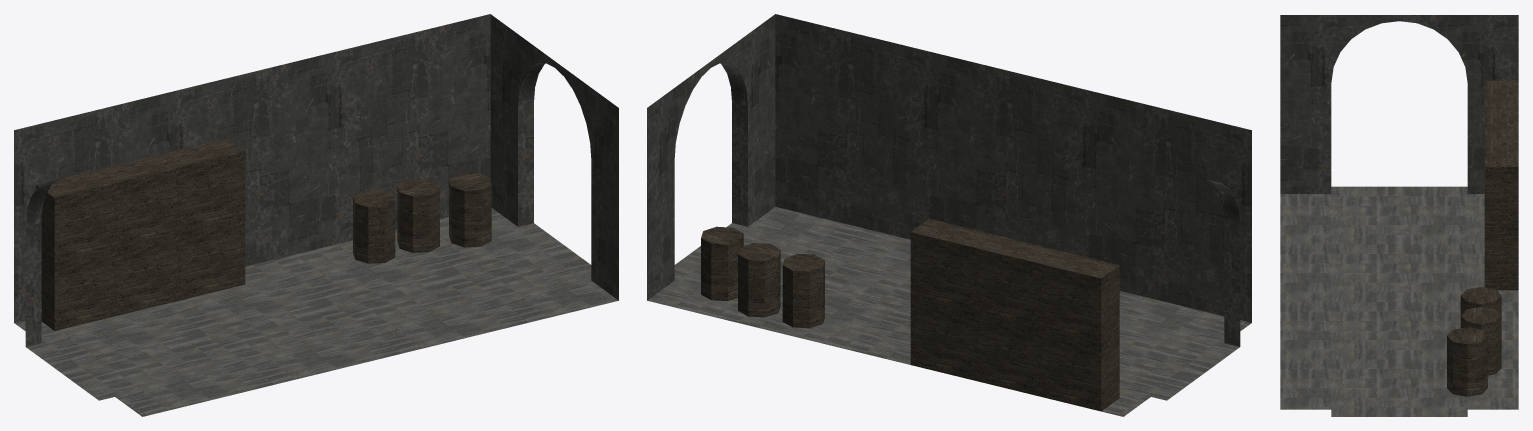
File: smugglers-cellar.f4d80233.gltf
The picture shows the model from 3 angles, left to right: view 1: azimuth 30°, elevation 25°; view 2: azimuth 150°, elevation 25°; view 3: azimuth 270°, elevation 25°; orthographic projection. The views are drawn at different scales.
Parts seen in each view (by area): view 1: smugglers-cellar-mesh, smugglers-cellar-props; view 2: smugglers-cellar-mesh, smugglers-cellar-props; view 3: smugglers-cellar-mesh, smugglers-cellar-props.
Part boxes in pixels (x1,y1,x2,y2): smugglers-cellar-mesh: (14,14,618,416); smugglers-cellar-props: (36,138,491,330); smugglers-cellar-mesh: (647,14,1251,416); smugglers-cellar-props: (701,218,1119,411); smugglers-cellar-mesh: (1280,15,1518,416); smugglers-cellar-props: (1447,80,1518,396).
Size of the model in its own units: 8 by 2.9 by 3.5.
3 materials, 3 textured.
